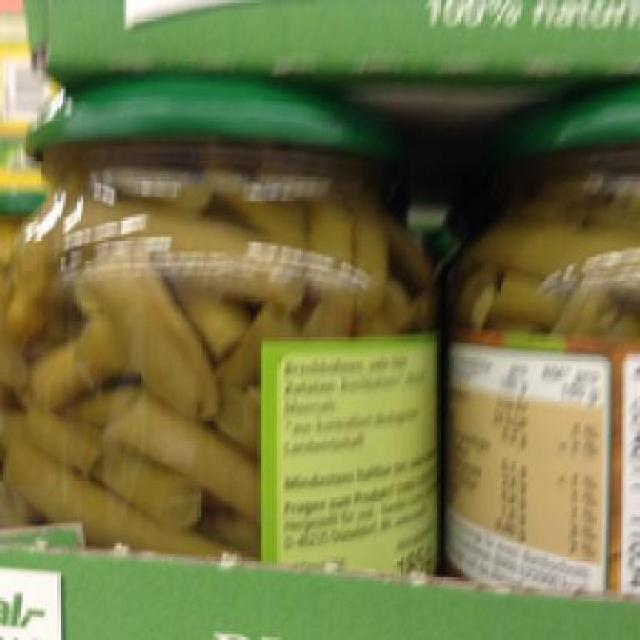Beans: (9, 82, 438, 588), (452, 77, 638, 592)
